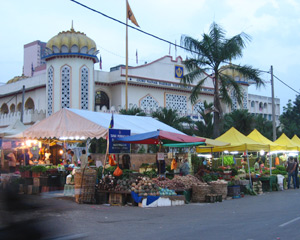Gurdwara: (29, 32, 191, 112)
